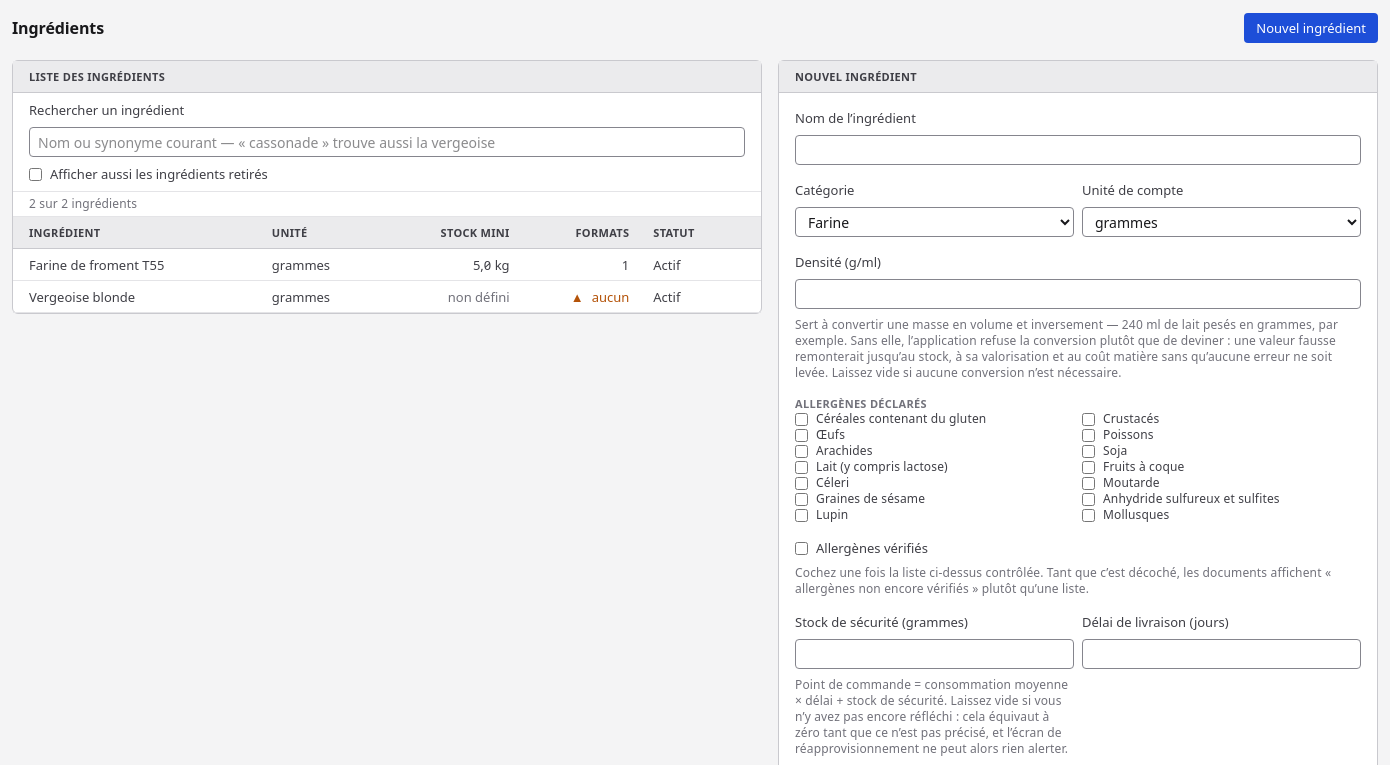
Ingrédients — choisir une ligne charge SA fiche, jamais celle d’à côté › remplit le formulaire avec les valeurs de l’ingrédient cliqué
Expected: the text "Farine de froment T55" is shown, [13,249,260,281]
Click the text "Vergeoise blonde" at point(387, 297), box [13,281,761,313]
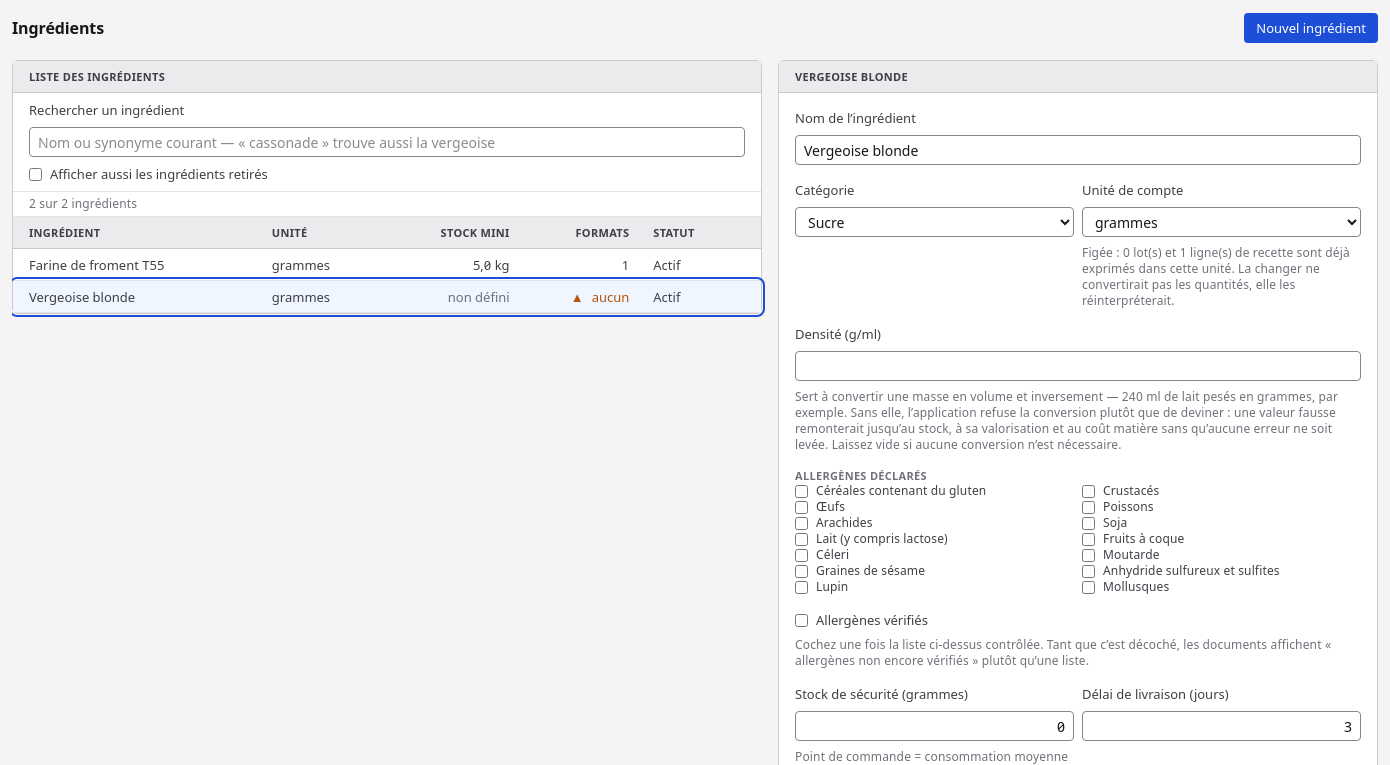
Expected: the checkbox labelled "Allergènes vérifiés" is not checked, [795,614,808,626]
Now the field labelled "Nom de l’ingrédient" holds "Vergeoise blonde", box [795,135,1361,165]
Now the field labelled "Stock de sécurité (grammes)" holds "0", box [795,711,1074,741]
